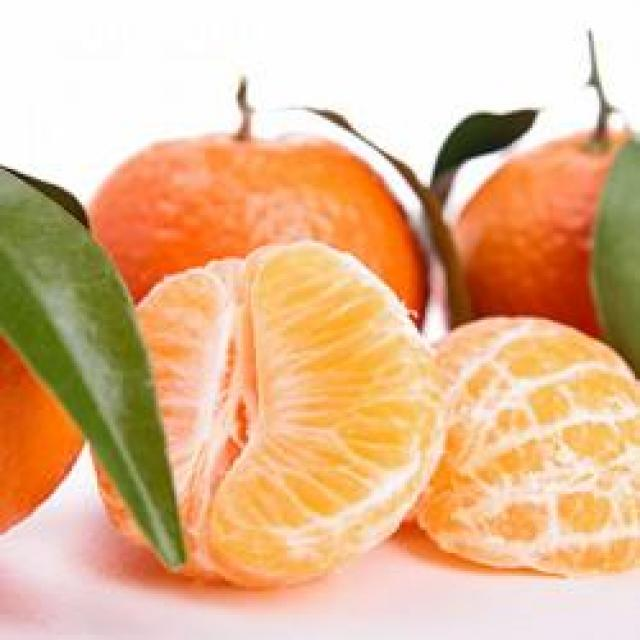10_tangerine: (84, 234, 444, 586), (97, 125, 433, 367), (408, 319, 640, 586), (460, 115, 640, 378)
